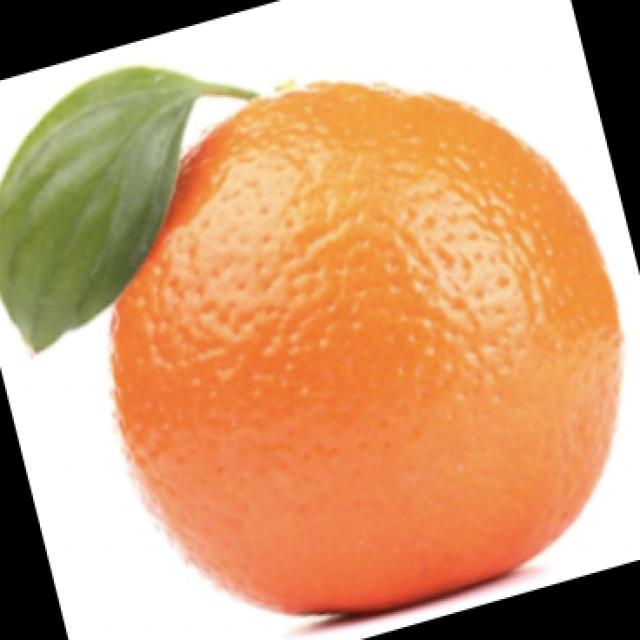fresh: (0, 41, 631, 625)
